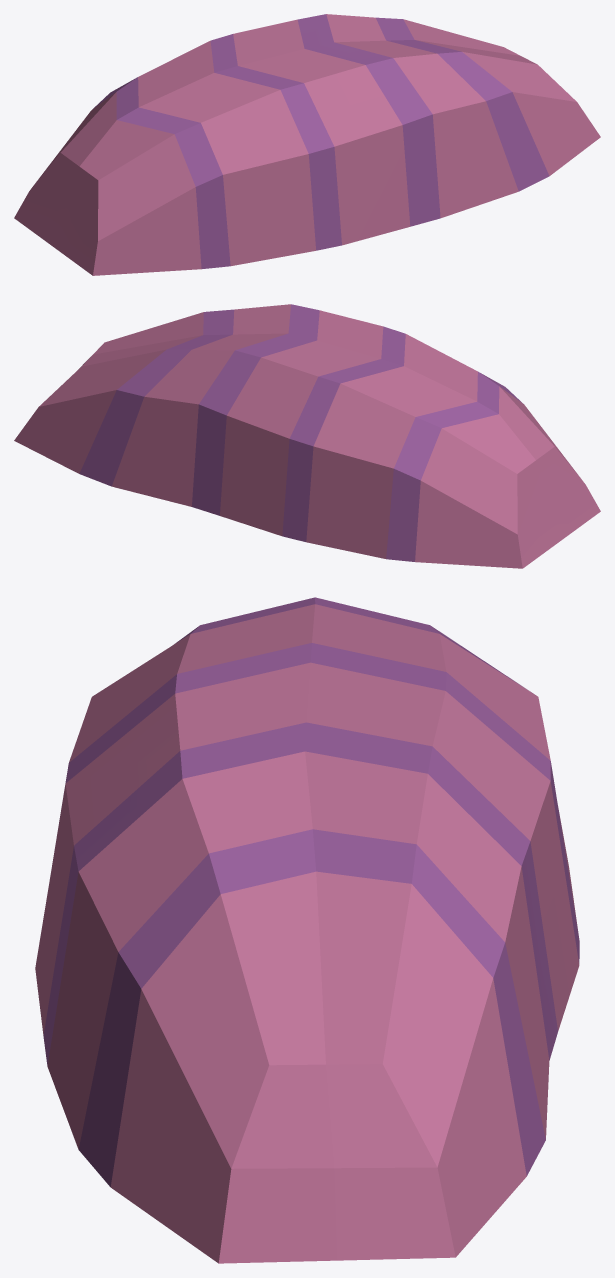
File: Sashimi_Salmon2.glb
3 renders of one model, top to bottom at view 1: azimuth 30°, elevation 25°; view 2: azimuth 150°, elevation 25°; view 3: azimuth 270°, elevation 25°, orthographic. The views are drawn at different scales.
Visible parts, largest first — view 1: Salmon2; view 2: Salmon2; view 3: Salmon2.
Boxes of the visible parts, bbox=[...] form: Salmon2: bbox=[14, 14, 600, 275]; Salmon2: bbox=[14, 304, 600, 568]; Salmon2: bbox=[35, 597, 579, 1263].
Bounding box in the file's own units: 0.5976 × 0.1518 × 0.2716.
